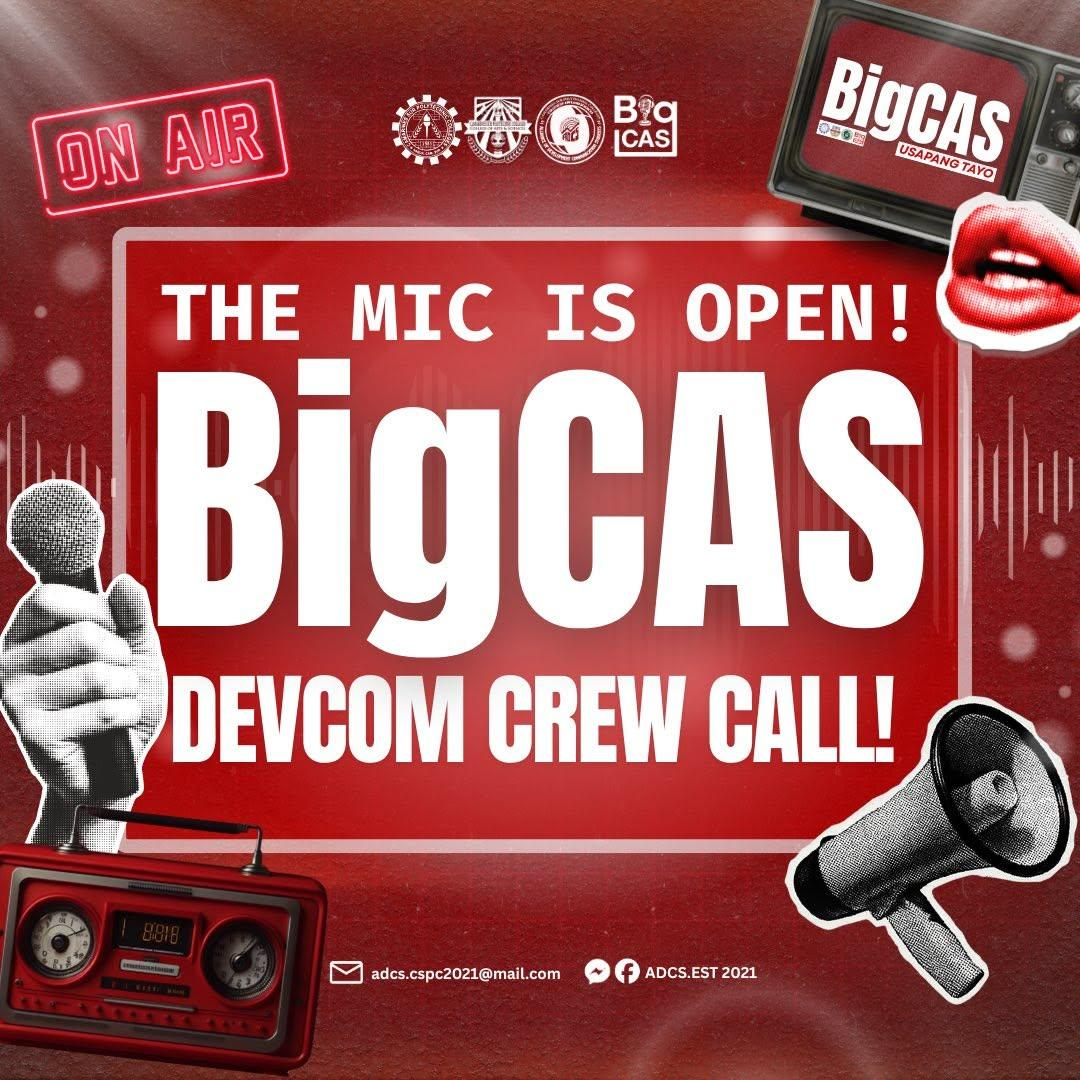embellishment: (0, 468, 332, 1078), (760, 0, 1079, 368), (779, 689, 1079, 1007), (23, 68, 294, 226), (581, 954, 643, 989), (325, 956, 365, 986)
logo: (388, 90, 464, 166), (607, 89, 682, 164), (535, 88, 607, 164), (465, 89, 534, 166)
text: (147, 271, 933, 775), (809, 41, 1024, 190), (50, 90, 274, 199), (367, 961, 568, 986), (643, 961, 761, 983)
underlay: (108, 224, 979, 854), (12, 61, 299, 237), (883, 0, 1079, 47)
